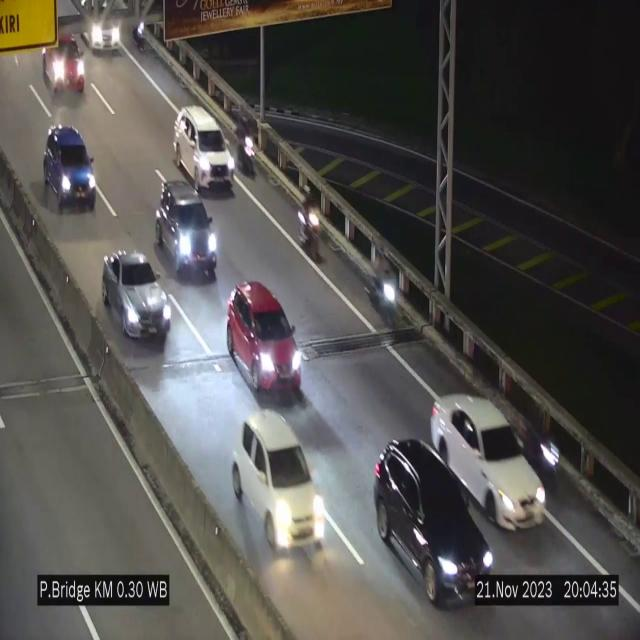Car: (373, 436, 493, 604), (429, 394, 547, 528), (232, 411, 326, 553), (227, 280, 302, 391), (101, 249, 171, 341), (156, 179, 218, 278), (45, 116, 98, 216), (174, 106, 234, 192), (36, 23, 91, 105), (82, 0, 122, 63)
Motorcycle: (367, 239, 399, 329), (526, 405, 560, 488), (296, 176, 324, 270), (237, 107, 259, 184), (133, 8, 149, 59)
